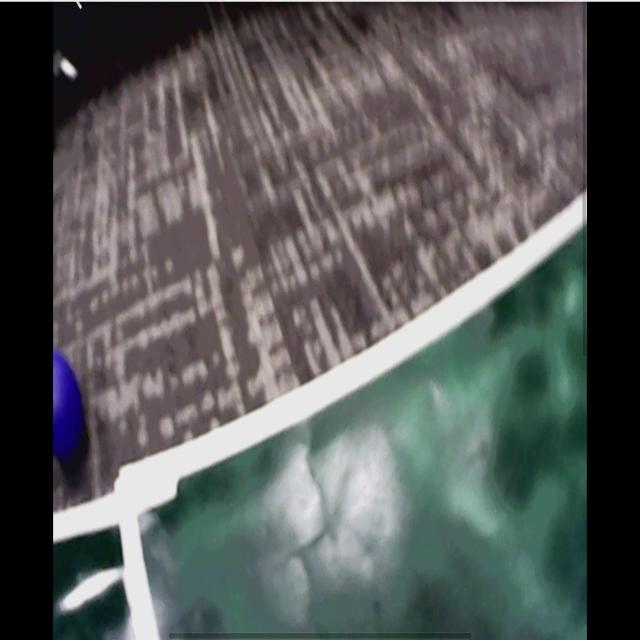ball: (54, 356, 86, 460)
